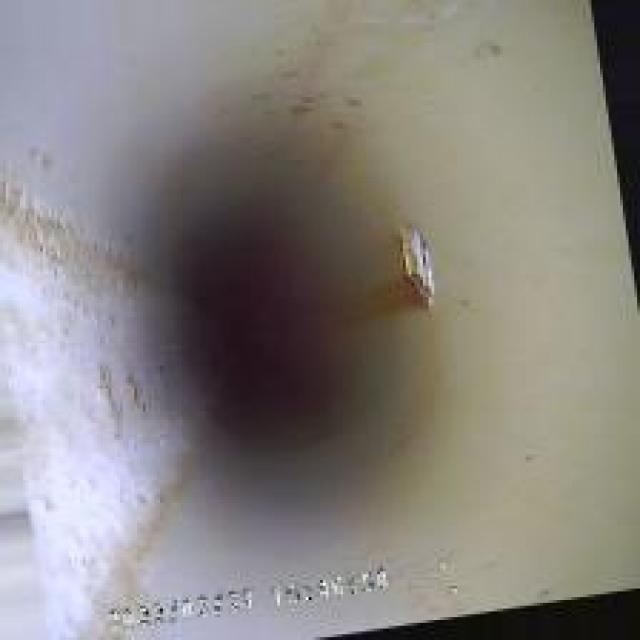ferrule: (374, 208, 446, 312)
